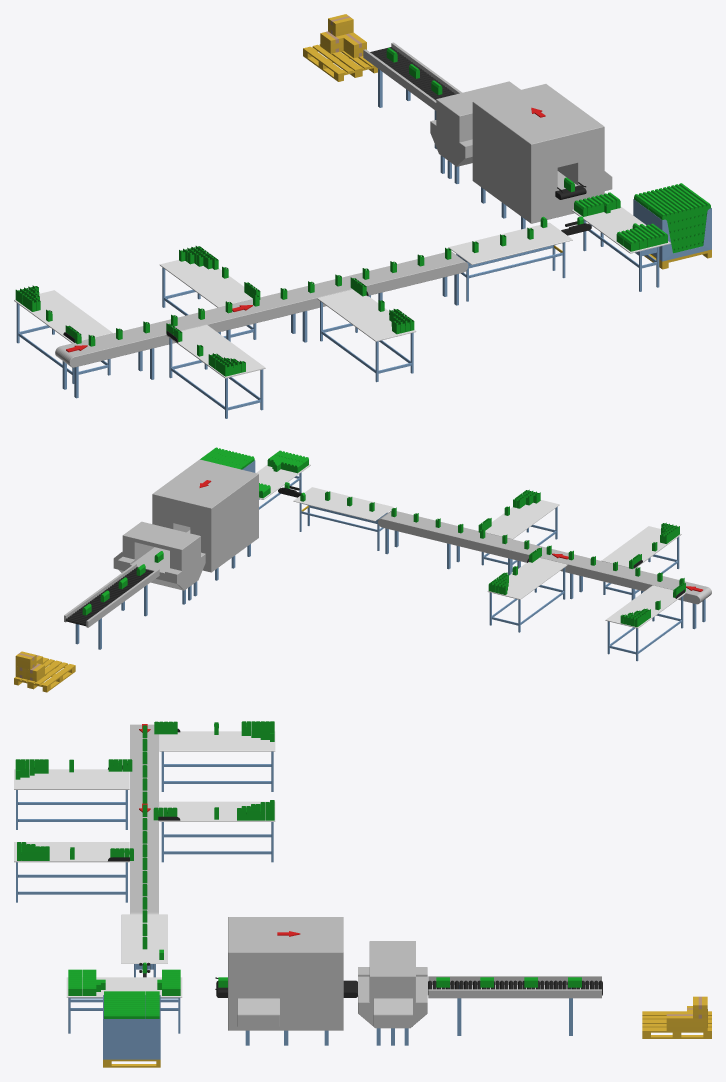
Rendered from Assembly line.fbx.
3 renders of one model, top to bottom at view 1: azimuth 30°, elevation 25°; view 2: azimuth 150°, elevation 25°; view 3: azimuth 270°, elevation 25°, orthographic. The views are drawn at different scales.
Visible parts, largest first — view 1: assembly; view 2: assembly; view 3: assembly.
Part boxes in pixels (<box>): assembly: <box>14,14,711,418</box>; assembly: <box>14,447,711,692</box>; assembly: <box>14,721,711,1067</box>.
Size of the model in its own units: 488 by 71.55 by 475.
